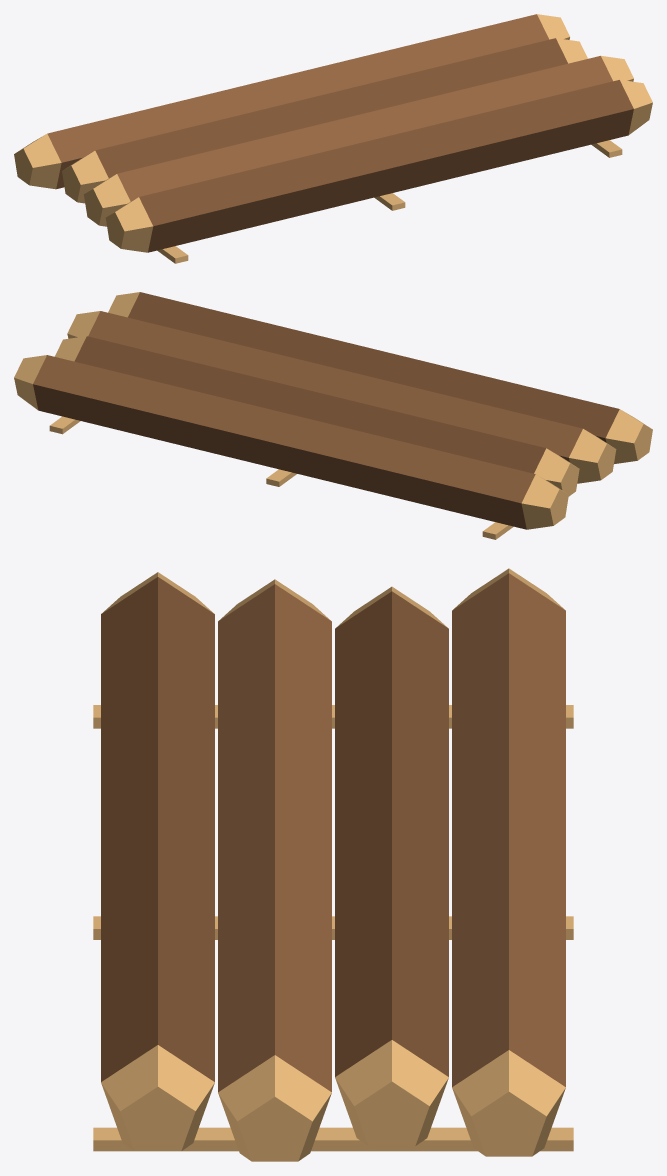
Rendered from pile_logs_1.glb.
3 renders of one model, top to bottom at view 1: azimuth 30°, elevation 25°; view 2: azimuth 150°, elevation 25°; view 3: azimuth 270°, elevation 25°, orthographic. The views are drawn at different scales.
Visible parts, largest first — view 1: pile_logs_1; view 2: pile_logs_1; view 3: pile_logs_1.
Boxes of the visible parts, left/top/right/bottom form: pile_logs_1: left=14, top=14, right=652, bottom=263; pile_logs_1: left=14, top=292, right=652, bottom=539; pile_logs_1: left=93, top=568, right=573, bottom=1161.
Size of the model in its own units: 12.5 by 1.32 by 4.8.
